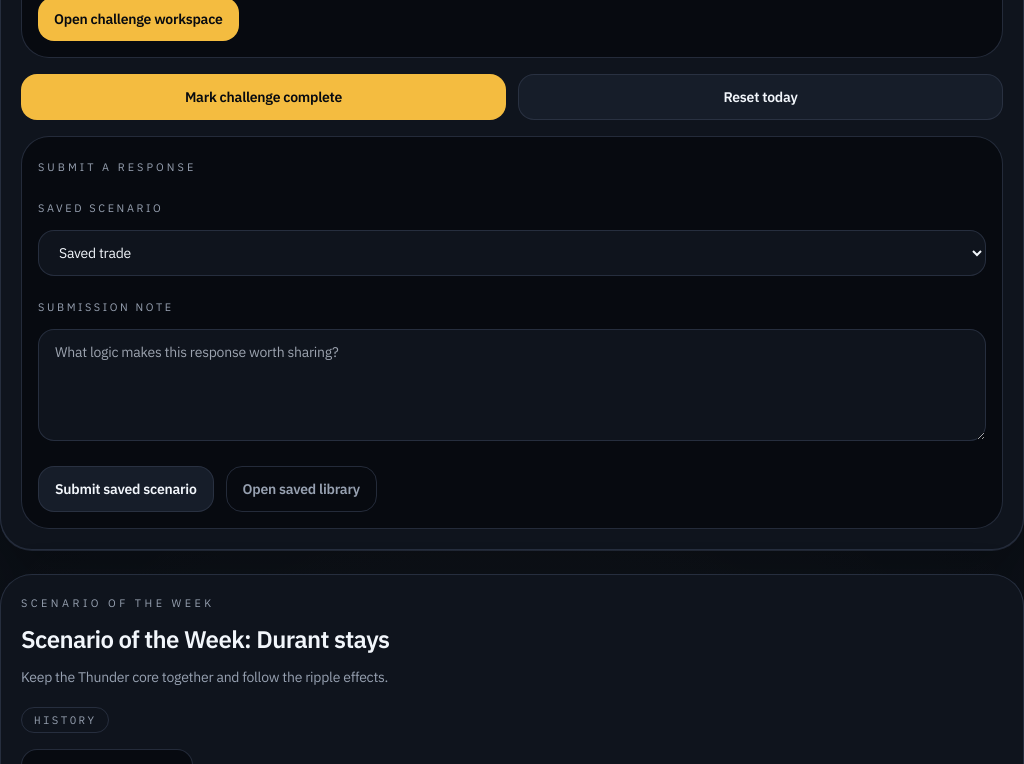
DailyChallengeWorkspace › submits the selected saved scenario and updates the streak
The width and height of the screenshot is (1024, 764).
(page scrolled)
Check: the button "Submit saved scenario" is enabled, box [38, 466, 214, 512]
Type "Pressed the upside path." into the text box with placeholder "What logic makes this response worth sharing?". click: [512, 384]
box: [38, 328, 986, 440]
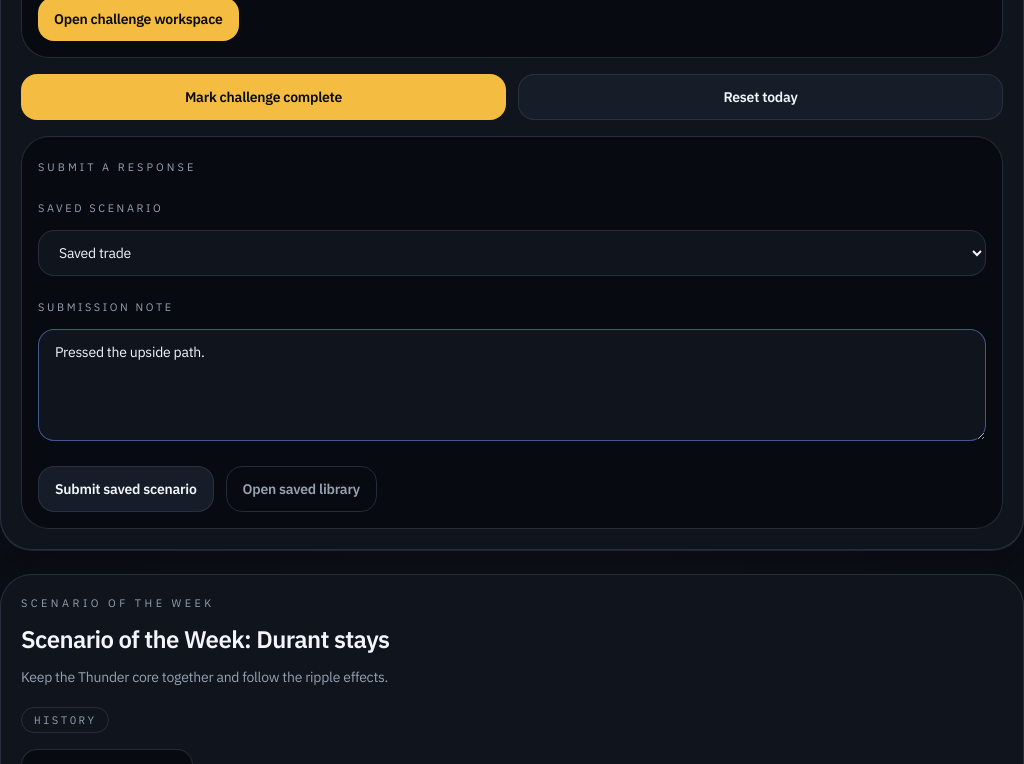
Click the button "Submit saved scenario". click: [126, 488]
box: [38, 466, 214, 512]
(page scrolled)
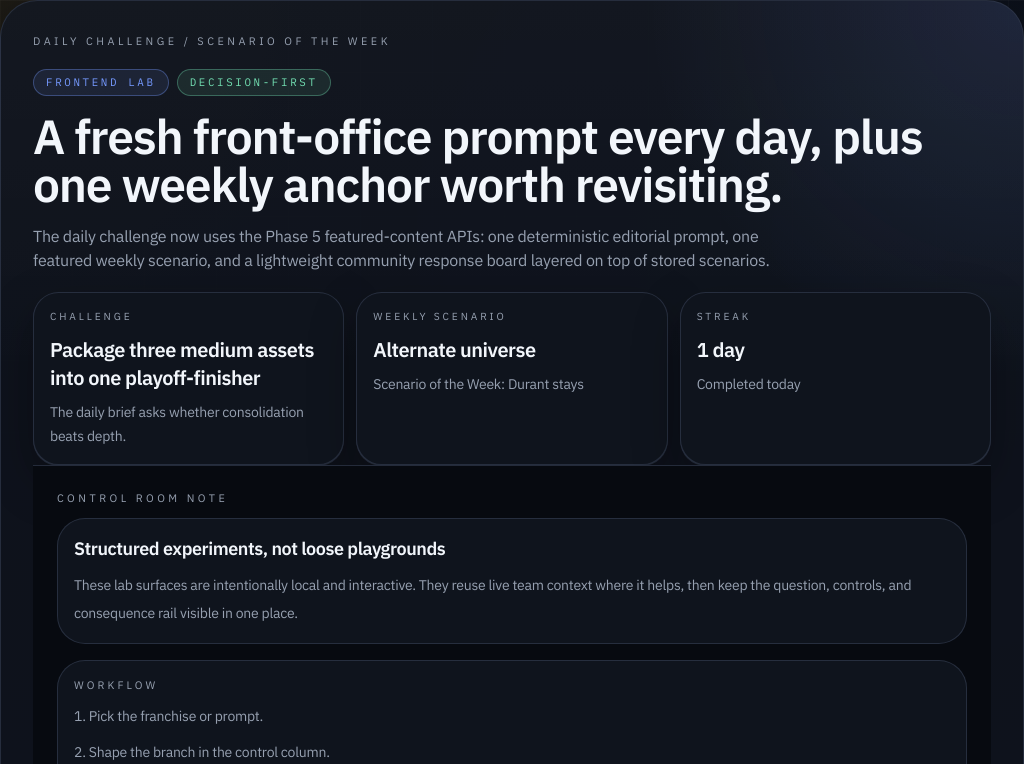
Check: the text "1 day" is shown, box [697, 336, 744, 363]
